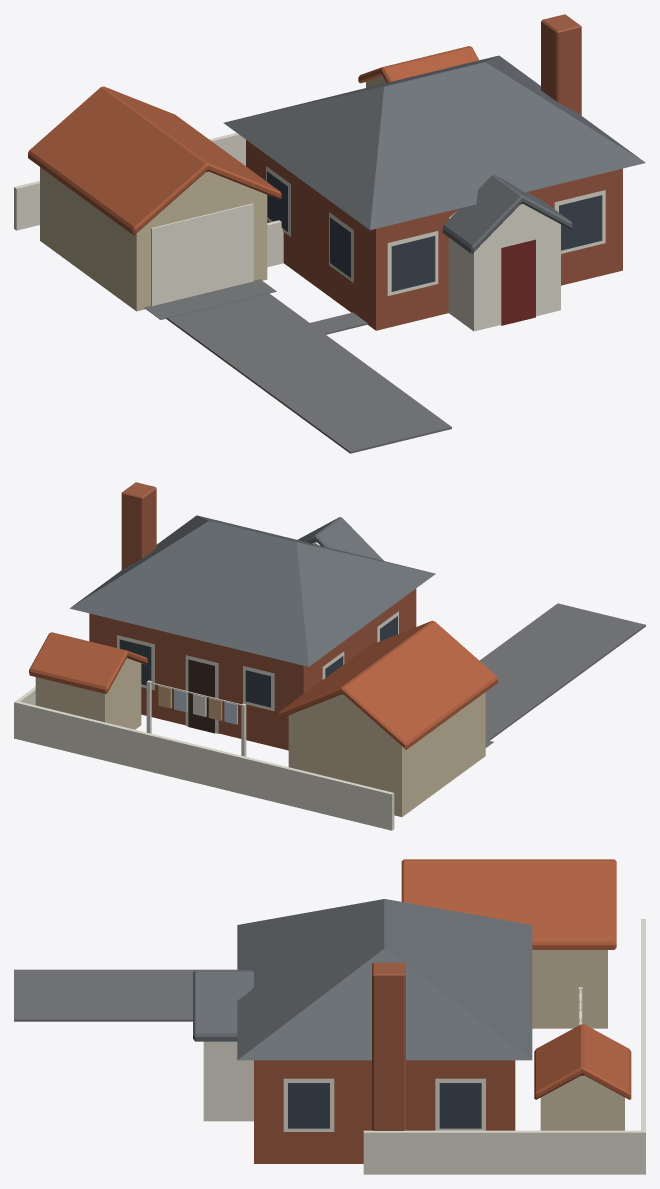
Rendered from house_b.glb.
3 renders of one model, top to bottom at view 1: azimuth 30°, elevation 25°; view 2: azimuth 150°, elevation 25°; view 3: azimuth 270°, elevation 25°, orthographic. The views are drawn at different scales.
Parts seen in each view (by area): view 1: house_b; view 2: house_b; view 3: house_b.
Part boxes in pixels (x1=…): house_b: x1=14, y1=14, x2=645, y2=453; house_b: x1=14, y1=482, x2=645, y2=830; house_b: x1=14, y1=859, x2=645, y2=1174.
Size of the model in its own units: 12.05 by 5.2 by 15.
